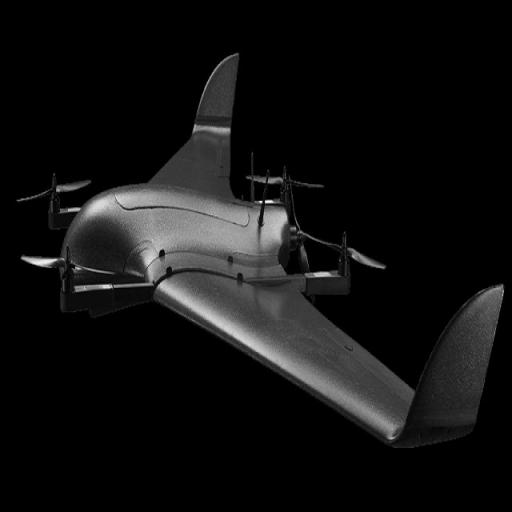uav: (20, 44, 504, 470)
